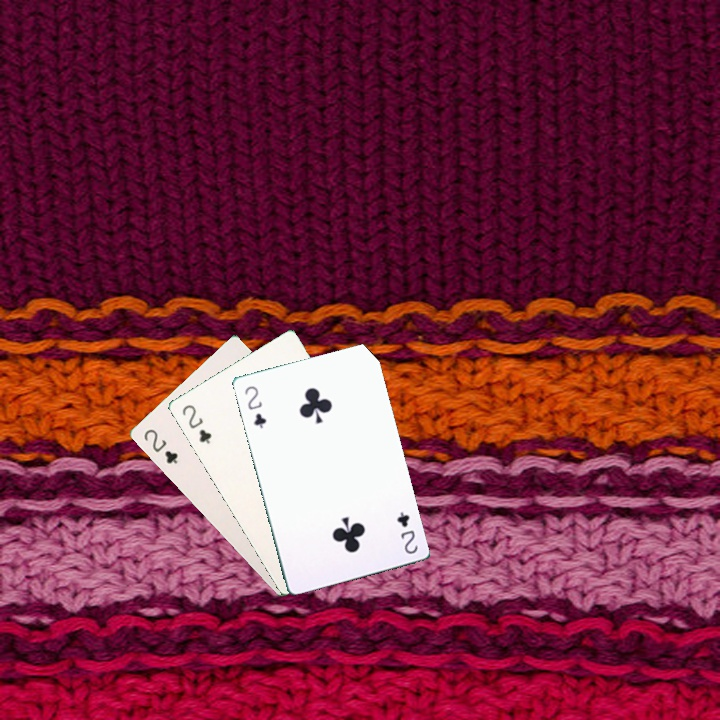2c: (178, 400, 214, 447), (140, 425, 180, 467), (240, 382, 269, 431), (393, 507, 420, 557)
